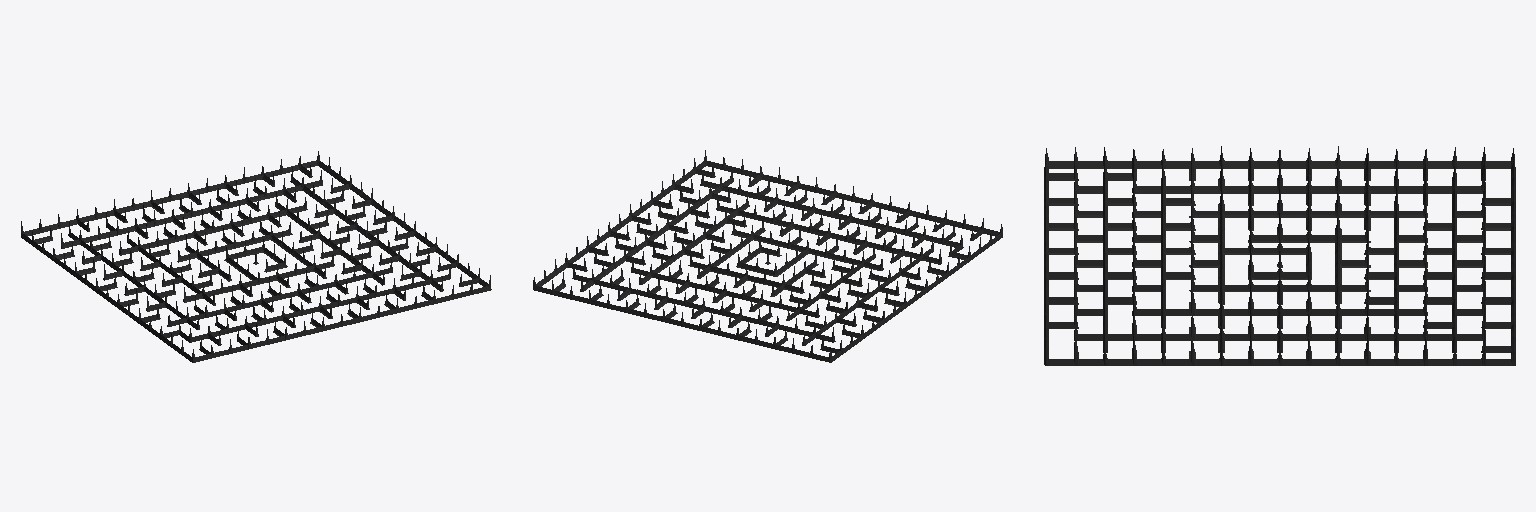
robot.urdf — zigzag:
<?xml version="1.0"?> 
<robot name="zigzag">

    <material name="black">
        <color rgba="0.2 0.2 0.2 0.95"/>
    </material>

    <link name="base_link">
        <visual>
            <origin xyz="0.0 0.0 0.05" rpy="0.0 0.0 0.0"/>
            <geometry>
                <mesh filename="meshes/zigzag.obj" scale="0.02 0.02 0.01" />
            </geometry>
          <material name="black"/>
        </visual>

        <collision concave="yes" name="collision_0">
           <origin xyz="0.0 0.0 0.05" rpy="0.0 0.0 0.0"/>
            <geometry>
                <mesh filename="meshes/zigzag.obj" scale="0.02 0.02 0.01" />
            </geometry>
        </collision>

        <inertial> 
            <mass value="0"/>
            <inertia ixx="0" ixy="0" ixz="0" iyy="0" iyz="0" izz="0"/>
        </inertial> 

    </link>
</robot>

--- Render facts (derived) ---
Views: 3 orthographic renders of the robot side by side, from view 1: azimuth 30°, elevation 25°; view 2: azimuth 150°, elevation 25°; view 3: azimuth 270°, elevation 25°.
Robot: zigzag — 1 links, 0 joints (none); root link base_link; default pose: every joint at zero.
Visible links, largest first — view 1: base_link; view 2: base_link; view 3: base_link.
Link boxes in pixels (x1,y1,x2,y2): base_link: (21, 151, 491, 362); base_link: (533, 150, 1002, 362); base_link: (1044, 146, 1515, 365).
Bounding box of the posed robot: 2.01 × 2.01 × 0.1 m (x, y, z).
1 mesh visuals loaded from 1 distinct referenced files (1 OBJ).